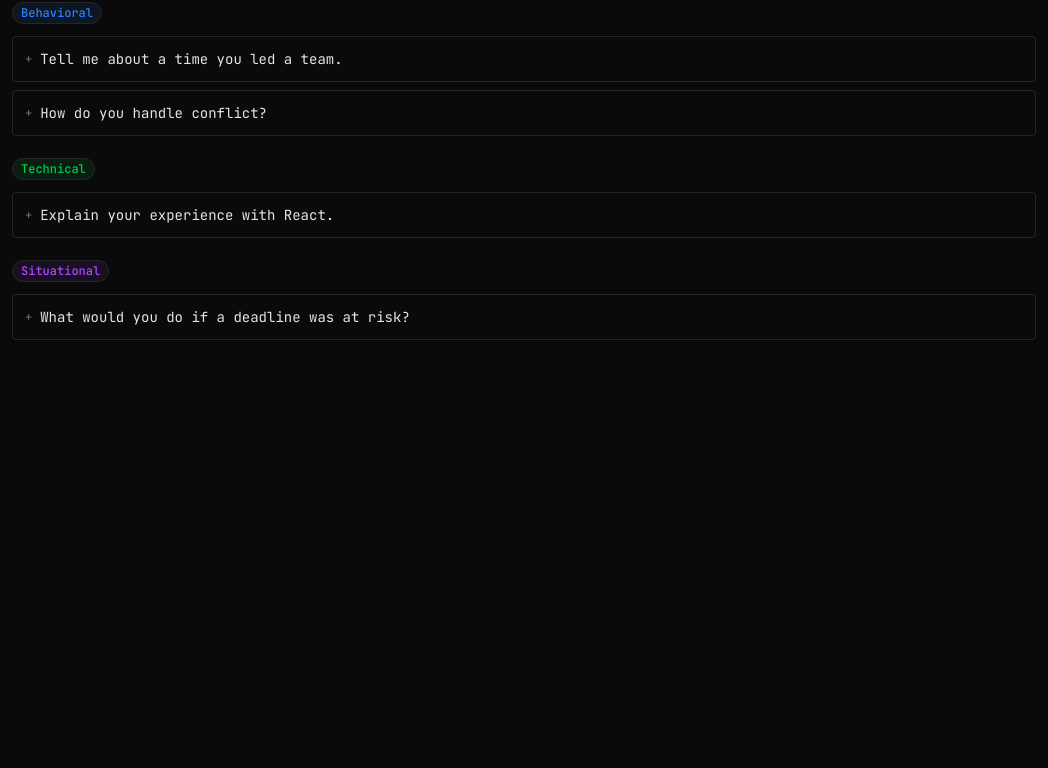
InterviewPrepViewer › can expand multiple questions independently
Click the text "Tell me about a time you led a team." at [191, 59], box 40,49 -> 343,69
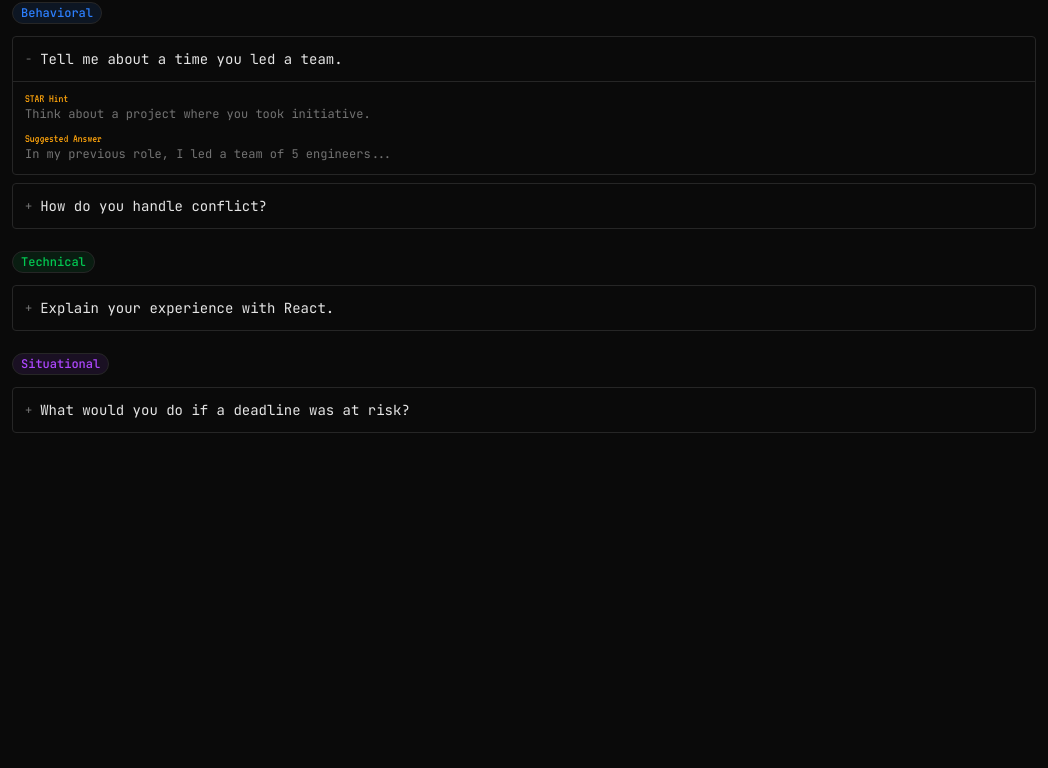
Click the text "Explain your experience with React." at [187, 308], box 40,298 -> 334,318
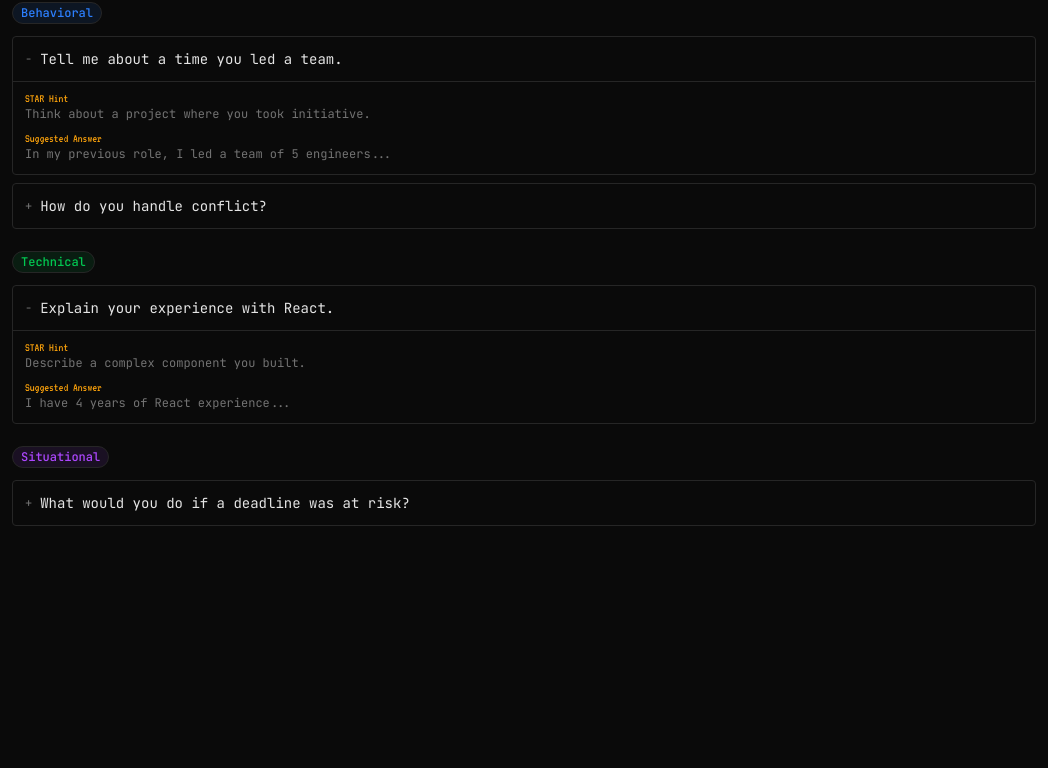
Now the text "In my previous role, I led a team of 5 engineers..." is shown, box 25,146 -> 392,162
Now the text "I have 4 years of React experience..." is shown, box 25,395 -> 291,411
